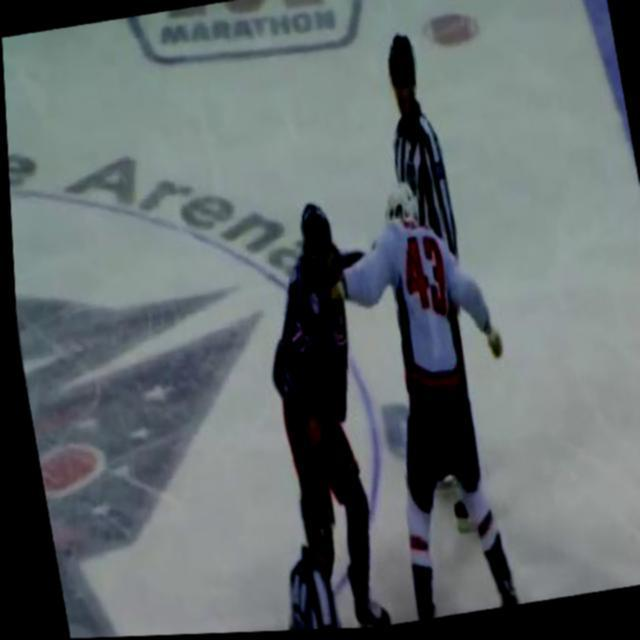fight: (231, 167, 554, 634)
